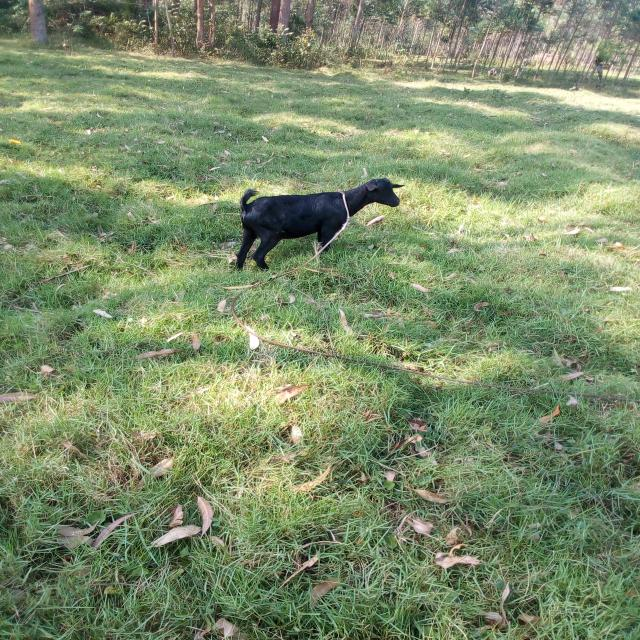goat: (197, 155, 433, 294)
